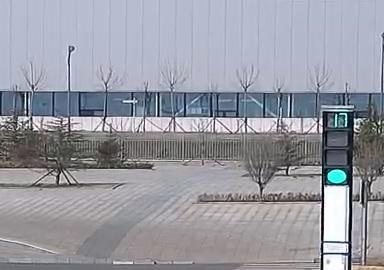green: (324, 168, 346, 183)
greentime: (329, 114, 349, 128)
